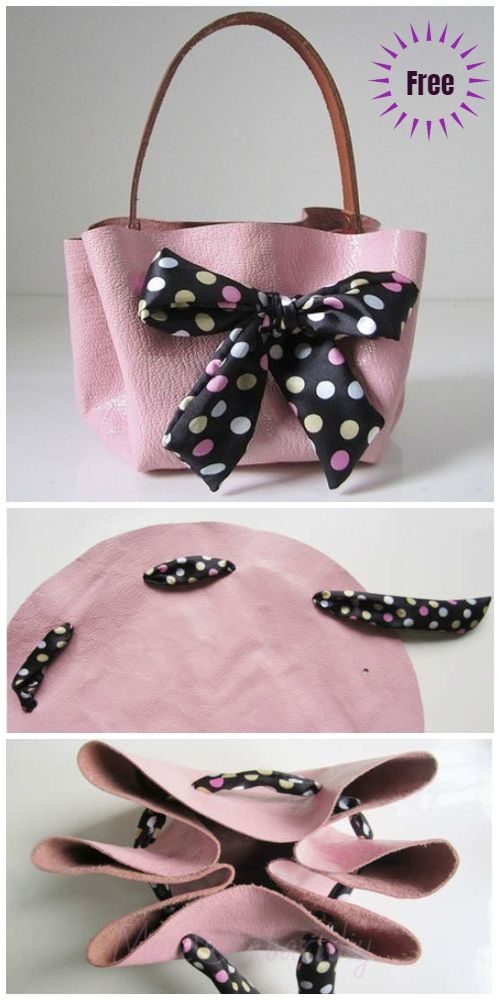cuero: (6, 210, 459, 971)
